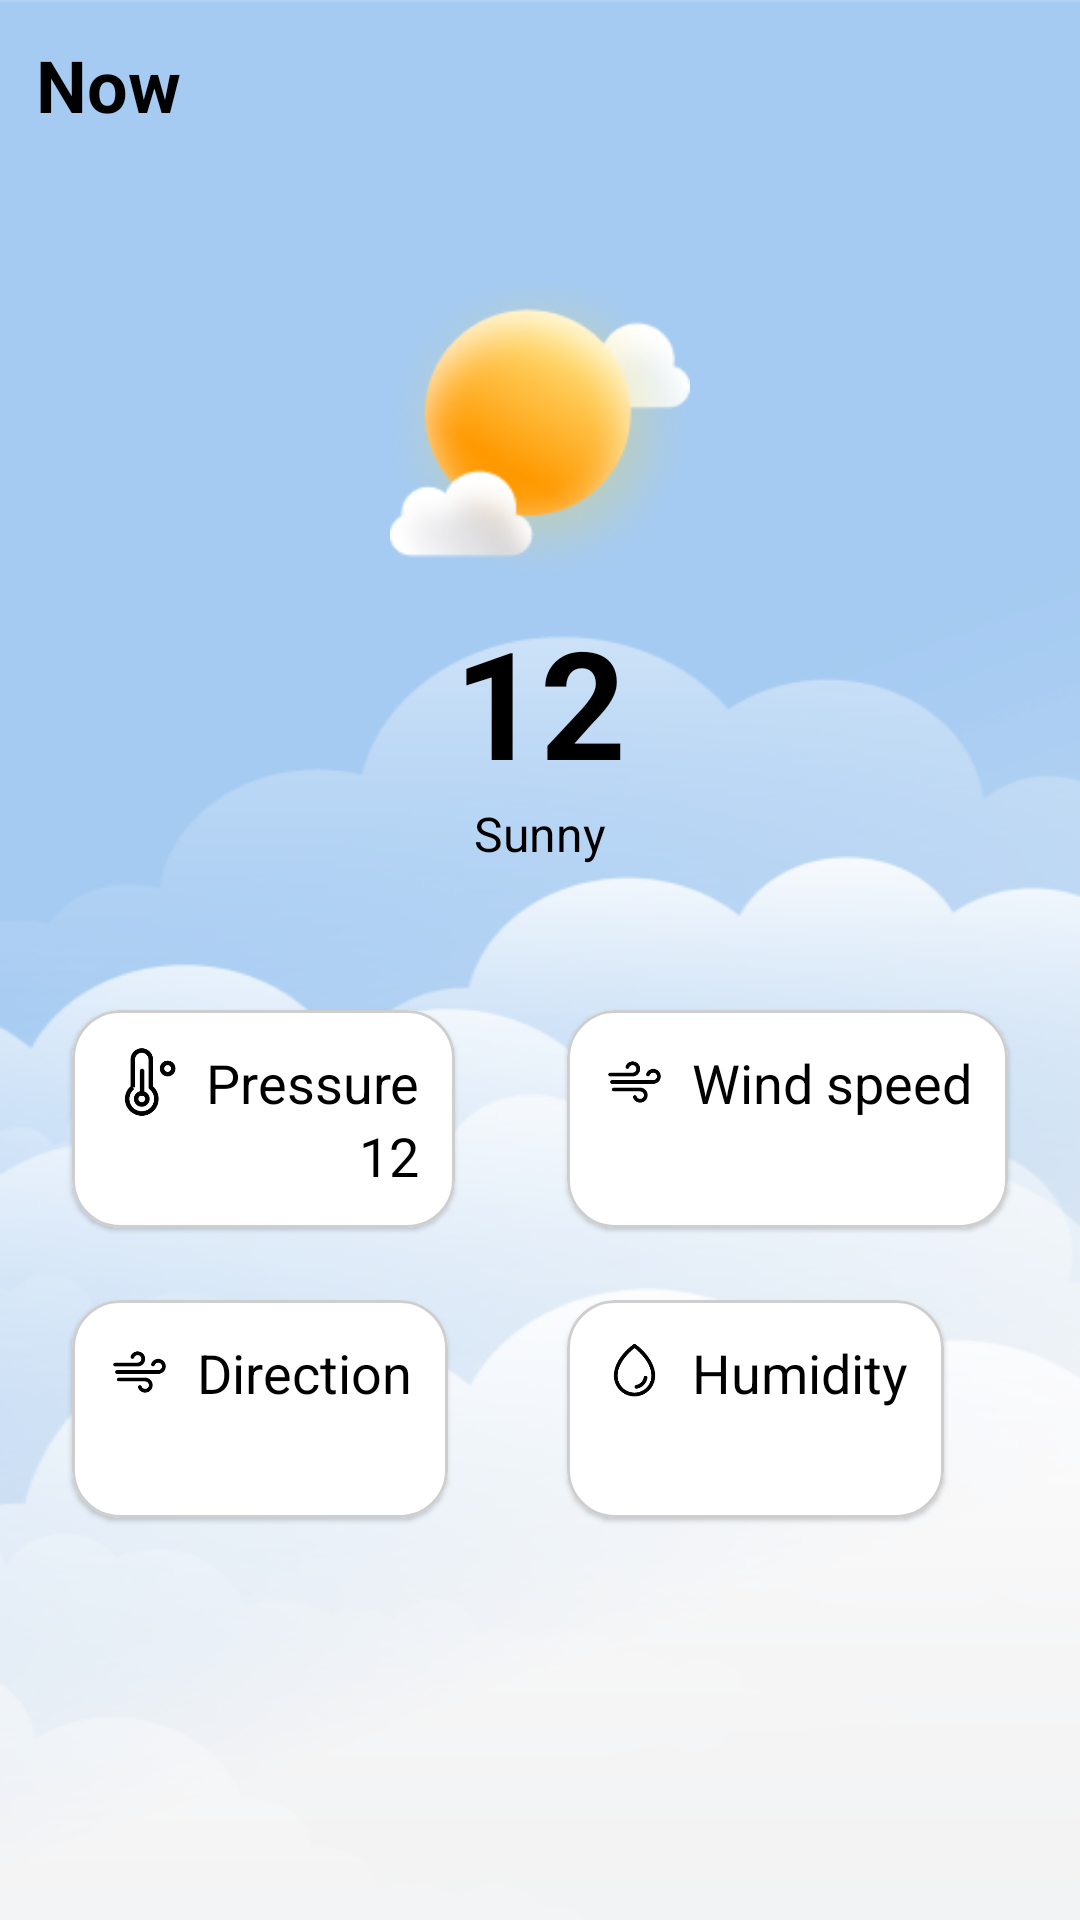

Icon bounding boxes for this 1080 x 1920 phone screenshot, format (left=x1, top=y1, right=x2, bottom=y2):
typeic sunny: (left=390, top=309, right=690, bottom=556)
